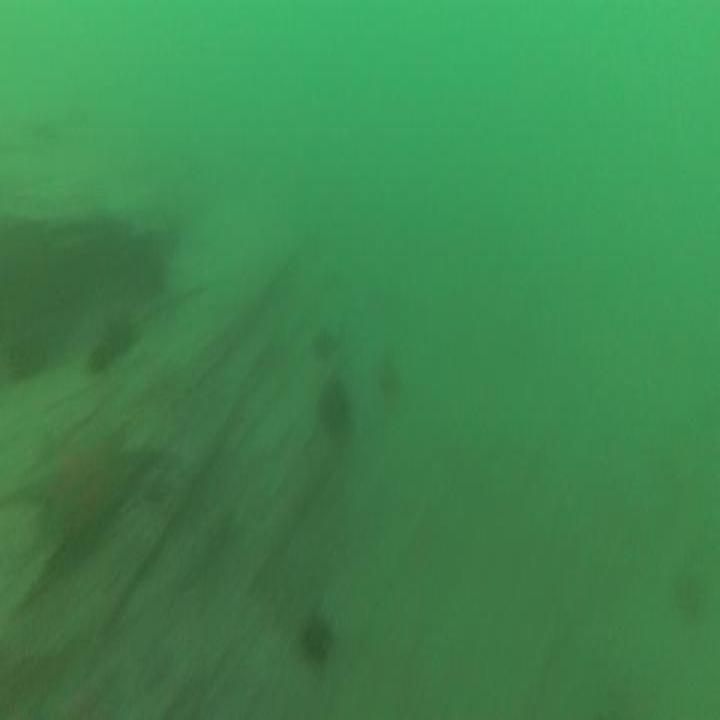echinus: (84, 309, 140, 377), (669, 555, 713, 631), (6, 320, 49, 388), (297, 608, 336, 676), (315, 373, 352, 444), (308, 320, 340, 368), (374, 350, 402, 402)
starfish: (6, 420, 163, 570)
